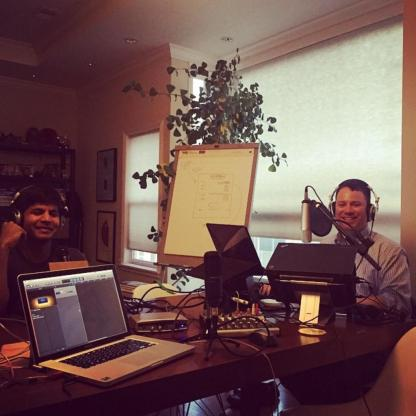board: (15, 266, 187, 390), (267, 241, 360, 305), (206, 224, 268, 274)
